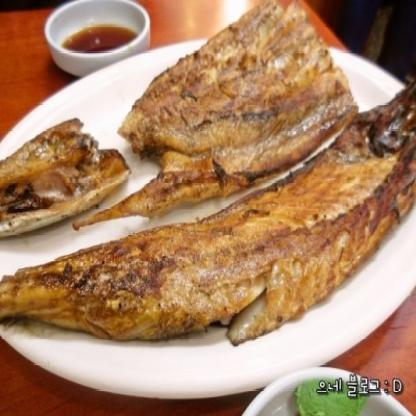Peixe: (0, 5, 416, 353)
